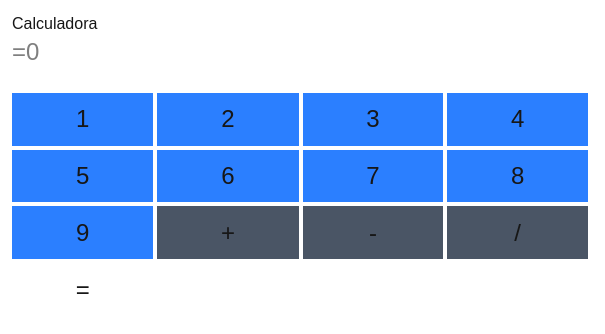
Test: Calc › conta completa
The width and height of the screenshot is (605, 334).
Click the button "5" at [83, 176], box [12,150,153,202]
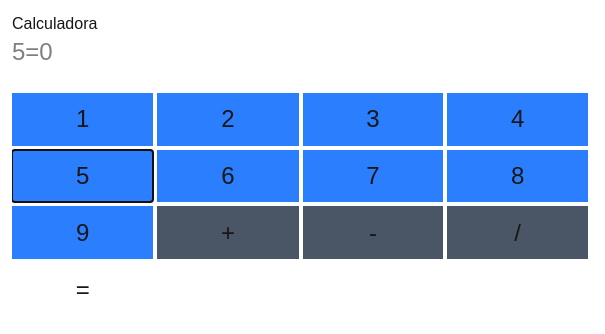
Click the button "+" at [228, 233], box [157,206,299,259]
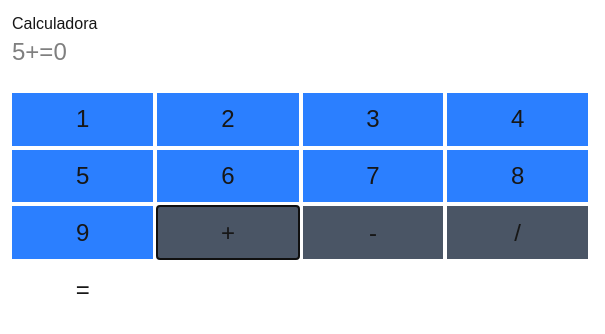
Click the button "5" at [83, 176], box [12,150,153,202]
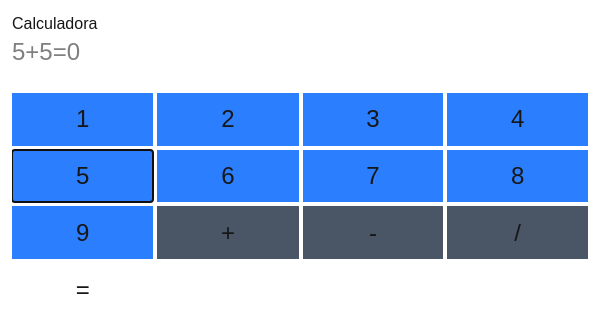
Expected: the field with placeholder "5+5=0" is shown, [12,36,322,68]
Click the button "=" at [83, 290], box [12,263,153,316]
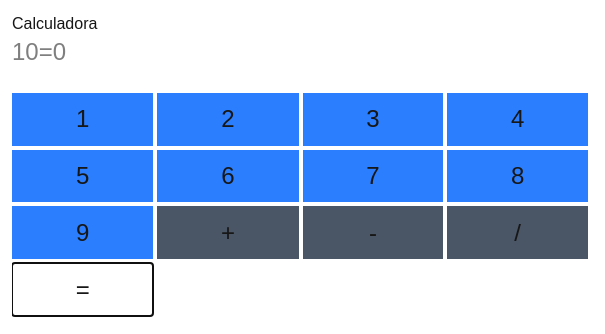
Expected: the field with placeholder "10=0" is shown, [12,36,322,68]
